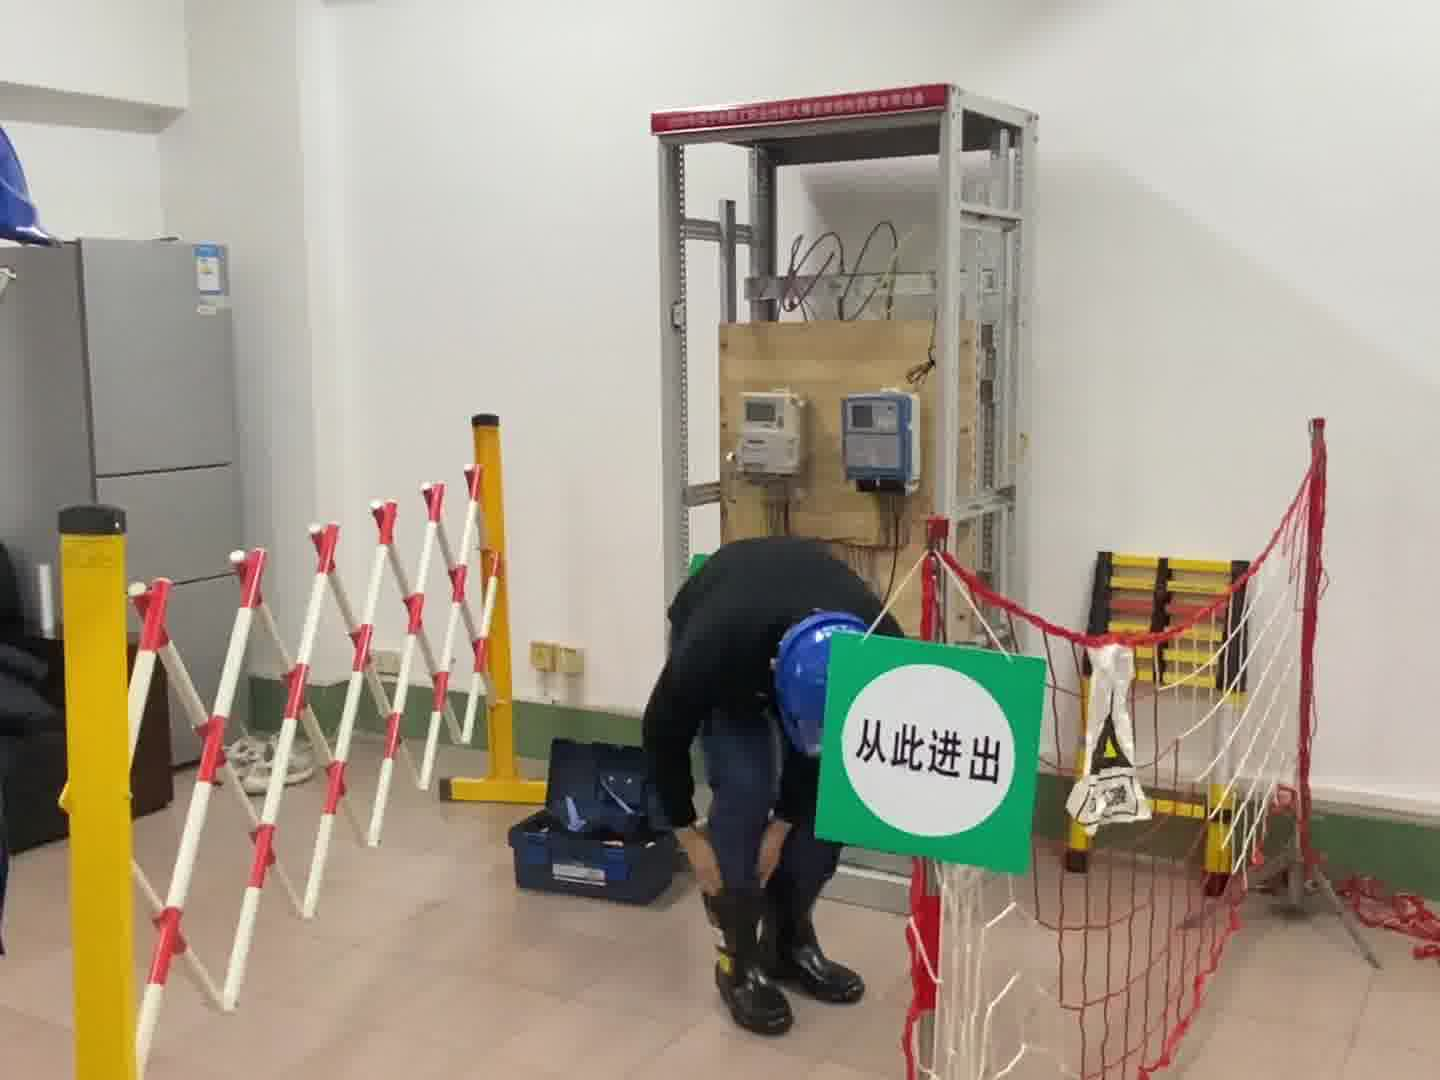downsuit: (701, 733, 860, 901)
halt: (771, 604, 881, 765)
hand: (674, 823, 722, 900), (754, 815, 794, 892)
intosign: (807, 623, 1053, 886)
person: (628, 529, 909, 1041)
shoe: (706, 885, 866, 1036)
upcloth: (637, 535, 907, 835)
